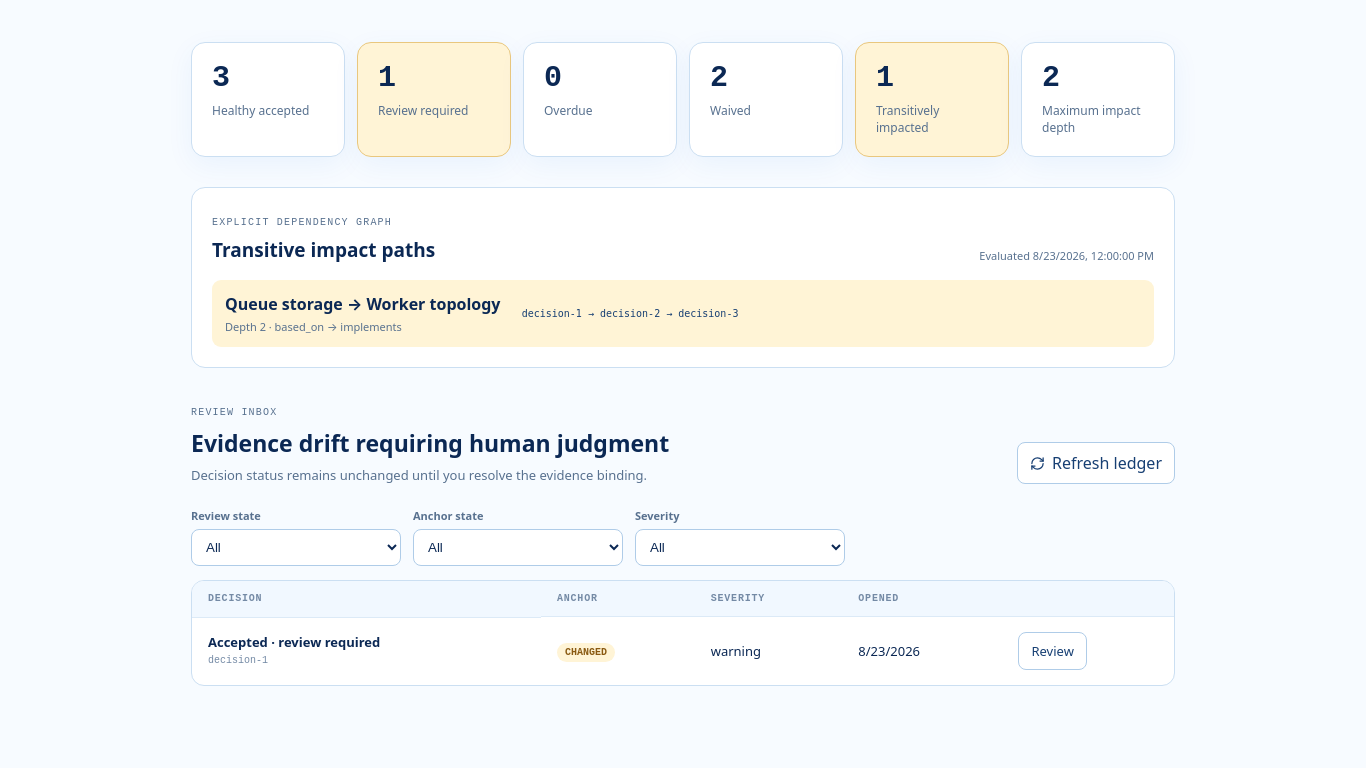
DecisionHealthView › renders metrics and loads exact evidence only after opening a review
The width and height of the screenshot is (1366, 768).
Expected: the text "3" is shown, 212,61 -> 230,95
Expected: the text "Transitively impacted" is shown, 876,102 -> 939,136
Click the button with aria-label "Open review review-1": (1053, 651) 1018,632 -> 1087,670
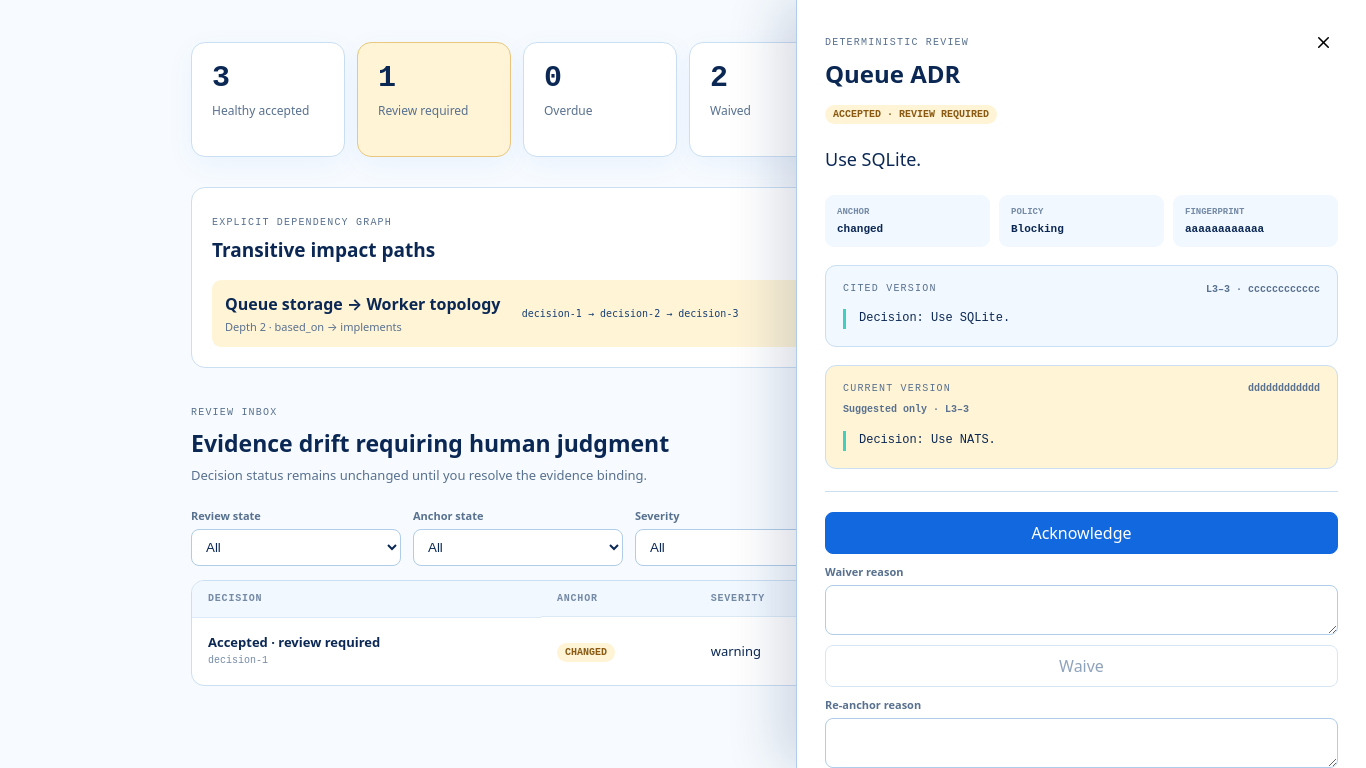
Now the text "Accepted · review required" below "Queue ADR" is shown, box 825,105 -> 997,124
Now the text "Decision: Use SQLite." is shown, box 843,309 -> 1320,329
Now the text "Decision: Use NATS." is shown, box 843,431 -> 1320,451
